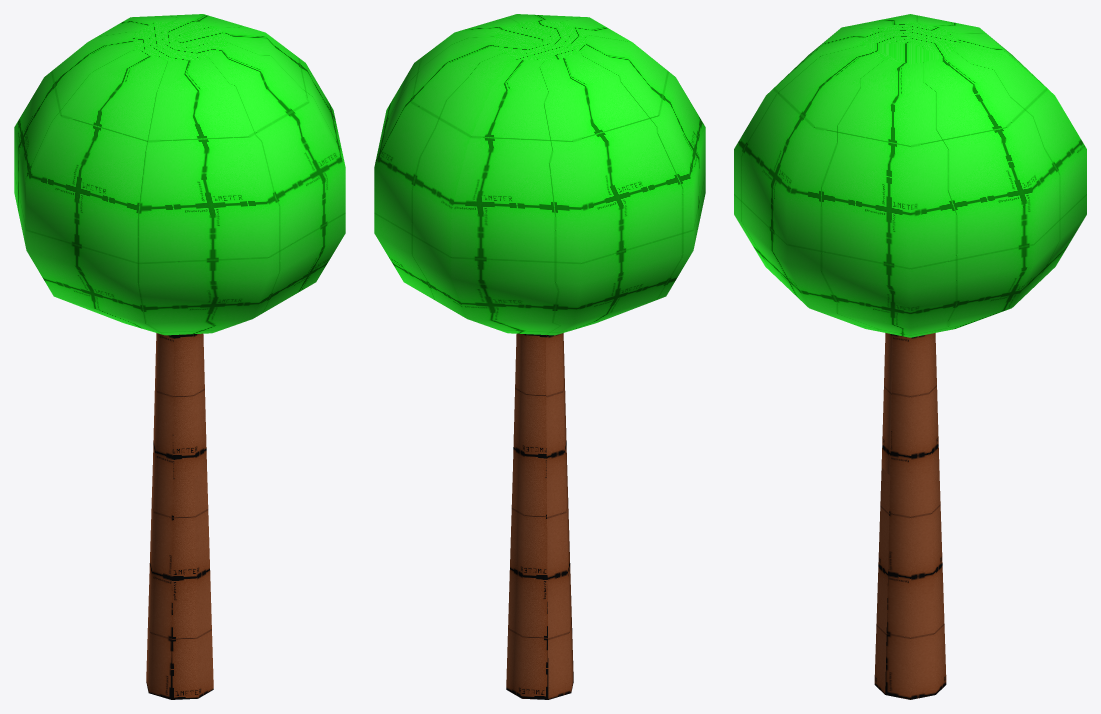
The model's file is Casa_EXTERIOR_ARBOL_LowPoly.fbx.
3 views of the same model, side by side, from view 1: azimuth 30°, elevation 25°; view 2: azimuth 150°, elevation 25°; view 3: azimuth 270°, elevation 25° (orthographic).
Parts seen in each view (by area): view 1: Casa_EXTERIOR_ARBOL_LowPoly; view 2: Casa_EXTERIOR_ARBOL_LowPoly; view 3: Casa_EXTERIOR_ARBOL_LowPoly.
Part boxes in pixels (bbox=[...]): Casa_EXTERIOR_ARBOL_LowPoly: bbox=[14, 14, 345, 699]; Casa_EXTERIOR_ARBOL_LowPoly: bbox=[374, 14, 705, 699]; Casa_EXTERIOR_ARBOL_LowPoly: bbox=[734, 14, 1086, 699].
Size of the model in its own units: 2.68 by 5.38 by 2.68.
